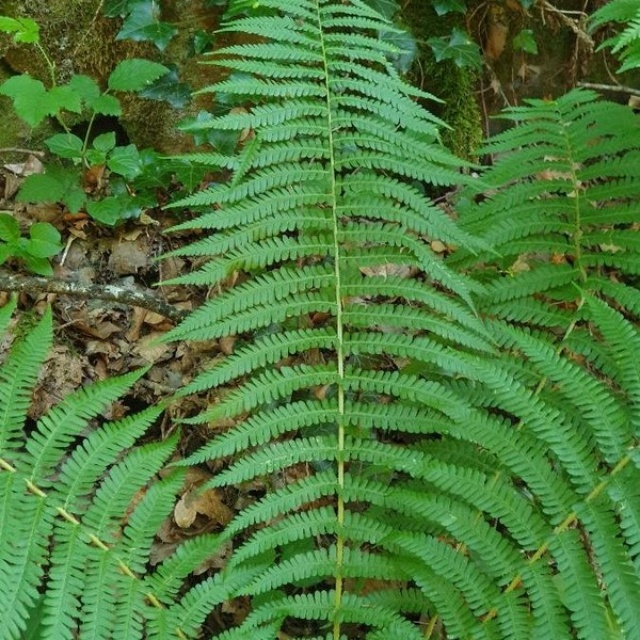obstacle: (174, 13, 443, 602), (465, 95, 636, 626), (9, 307, 233, 619), (9, 14, 188, 233)
